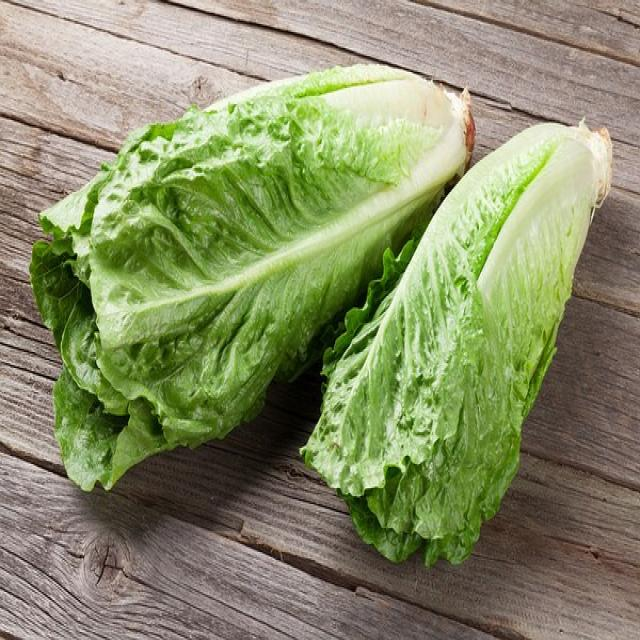Lettuce head: (25, 124, 285, 486), (299, 237, 554, 571)
